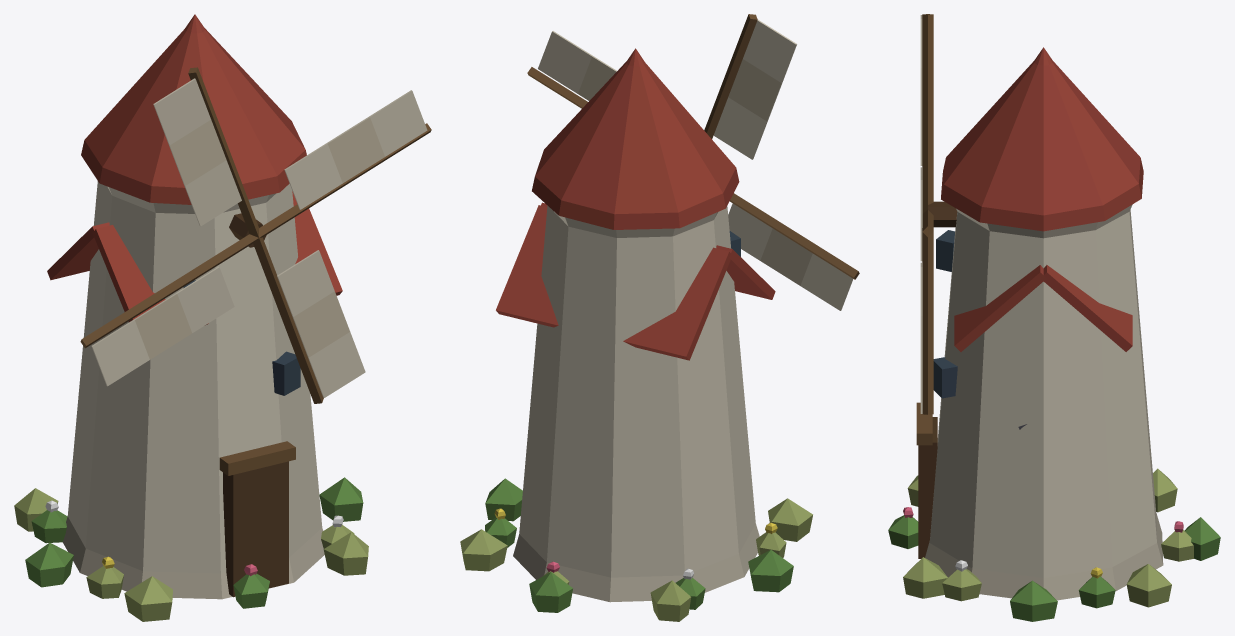
File: meadow.glb
3 views of the same model, side by side, from view 1: azimuth 30°, elevation 25°; view 2: azimuth 150°, elevation 25°; view 3: azimuth 270°, elevation 25° (orthographic). The views are drawn at different scales.
Parts seen in each view (by area): view 1: meadow_windmill_a, meadow_wishing_well_a; view 2: meadow_windmill_a, meadow_wishing_well_a; view 3: meadow_windmill_a, meadow_wishing_well_a.
Boxes of the visible parts, x1,y1,x2,y2 form: meadow_windmill_a: (14,14,431,621); meadow_wishing_well_a: (31,191,354,608); meadow_windmill_a: (460,14,859,621); meadow_wishing_well_a: (485,202,786,609); meadow_windmill_a: (903,14,1220,621); meadow_wishing_well_a: (888,265,1193,608).
Bounding box in the file's own units: 2.37 × 3.49 × 2.07.
